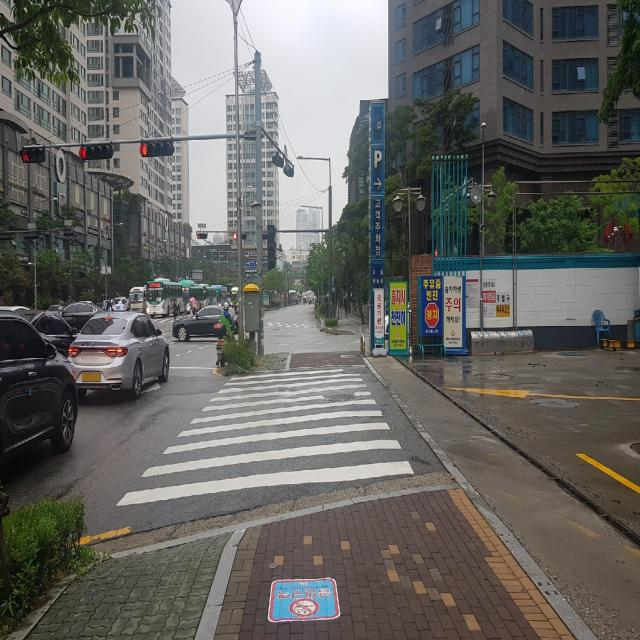횡단보도: (115, 367, 414, 507)
